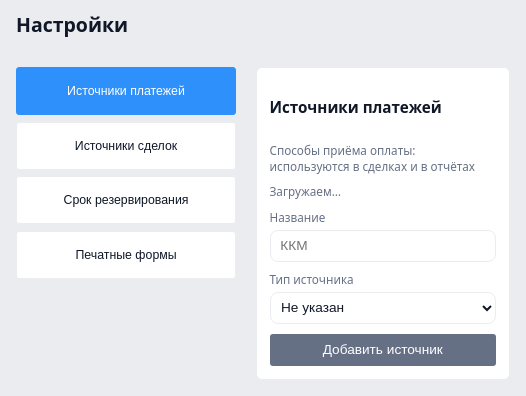
Test: печатные формы в настройках › не смогли узнать — сказано почему, а не вечное «Загружаем…»
Click the button "Печатные формы" at {"x": 126, "y": 255}, box [16,231,236,279]
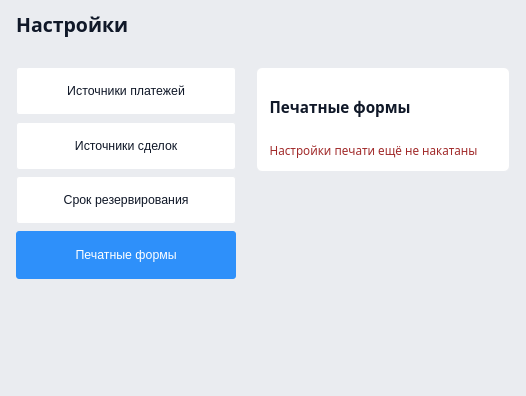
Now the text "Настройки печати ещё не накатаны" is shown, box [270,142,496,158]
Now the text "Загружаем…" is gone
